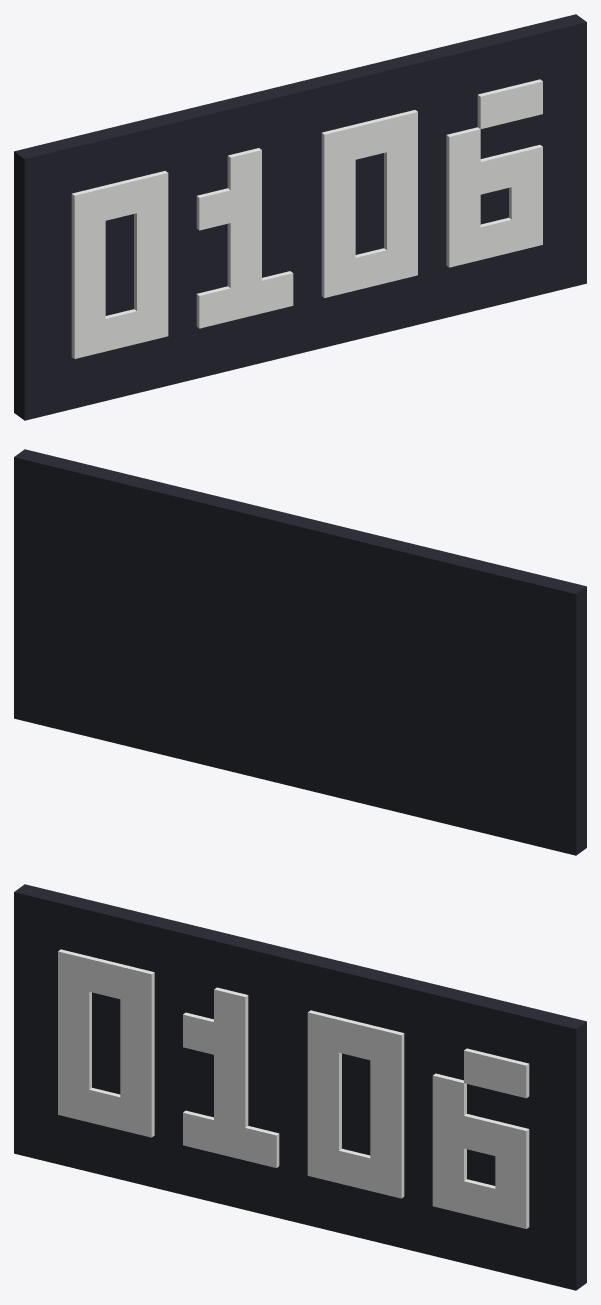
File: placard.glb
The picture shows the model from 3 angles, top to bottom: view 1: azimuth 30°, elevation 25°; view 2: azimuth 150°, elevation 25°; view 3: azimuth 330°, elevation 25°; orthographic projection.
Parts seen in each view (by area): view 1: placard; view 2: placard; view 3: placard.
Part boxes in pixels (x1,y1,x2,y2): placard: [14, 14, 586, 420]; placard: [14, 449, 586, 855]; placard: [14, 884, 586, 1290].
Size of the model in its own units: 0.45 by 0.2 by 0.019.
Materials: 1 (1 with a texture image).
